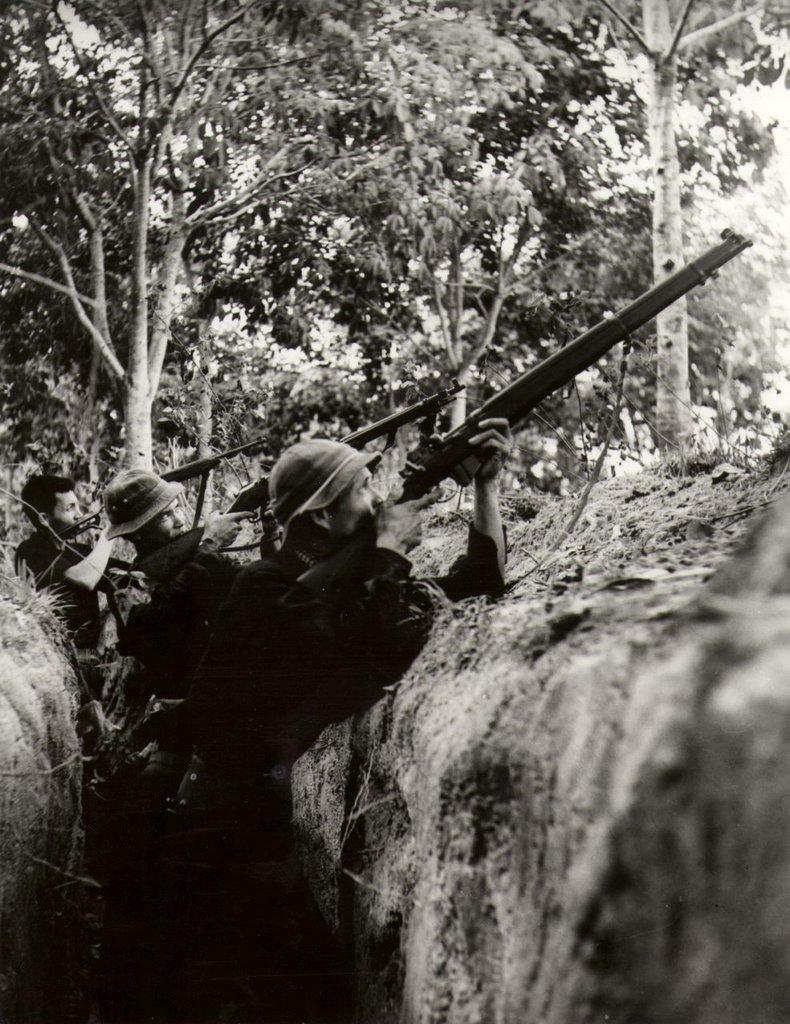Rifle: (292, 219, 760, 597), (205, 374, 461, 560), (49, 443, 271, 574)
